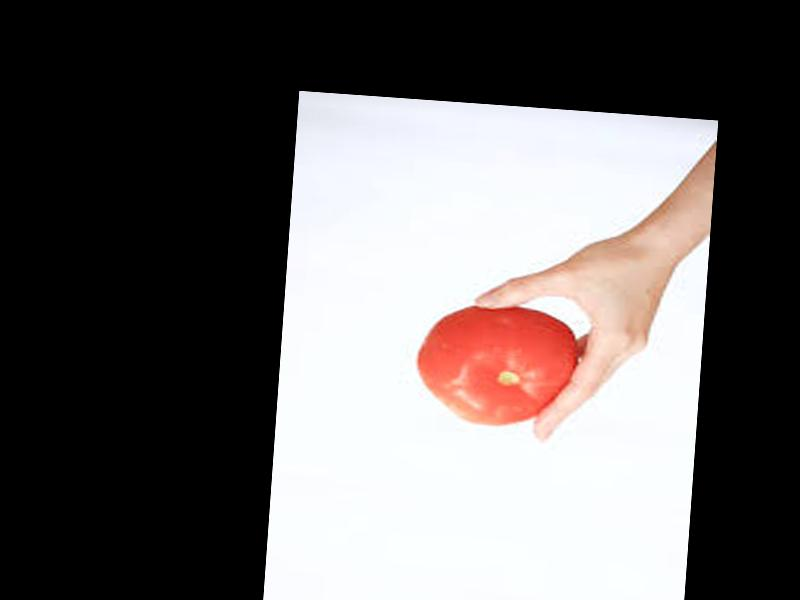Tomato: (414, 300, 577, 431)
